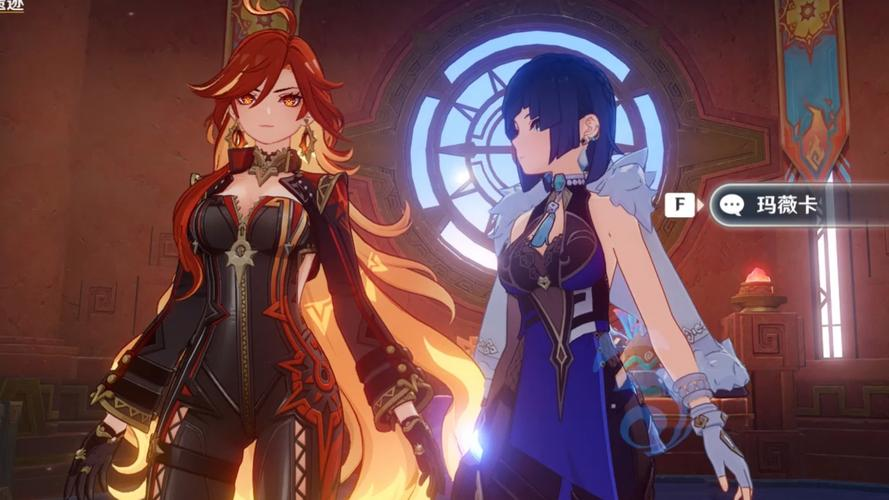夜兰: (447, 54, 754, 500)
